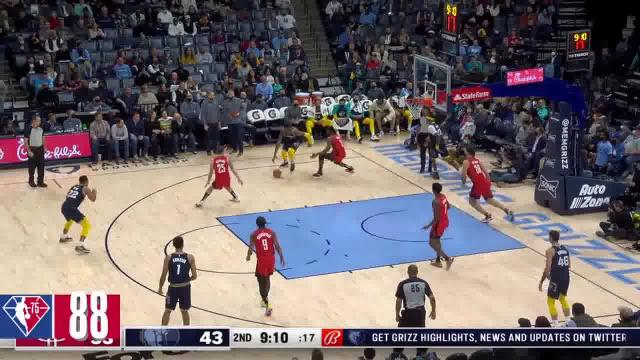ball-handler: (264, 118, 314, 182)
player: (454, 145, 516, 224), (244, 214, 286, 319), (532, 225, 574, 323), (158, 227, 198, 328), (422, 181, 461, 271), (58, 172, 96, 256), (192, 147, 243, 207), (312, 124, 356, 179)
